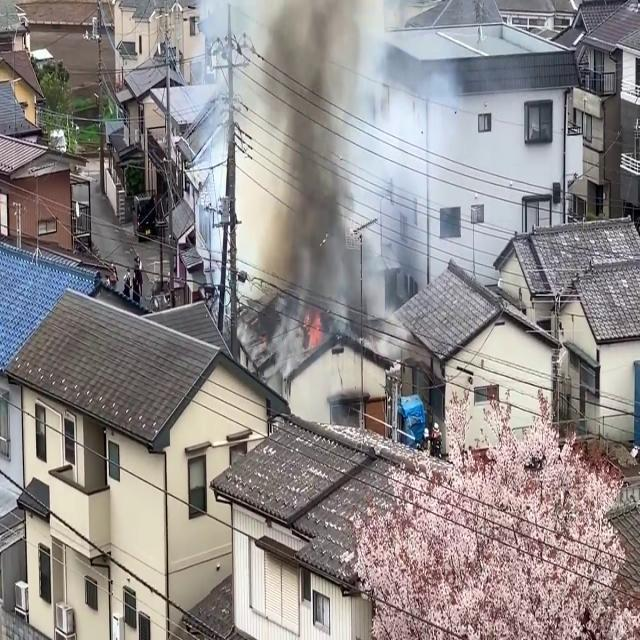Smoke: (249, 0, 427, 372)
